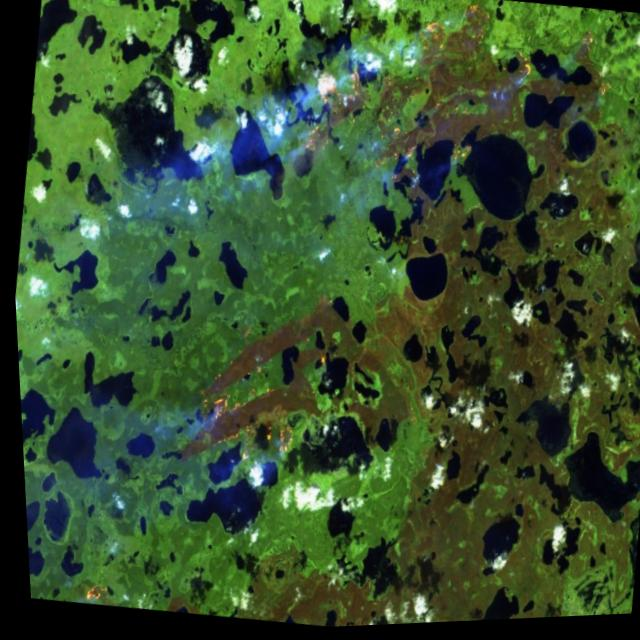fire: (280, 0, 625, 223), (164, 363, 308, 490), (68, 563, 111, 608)
